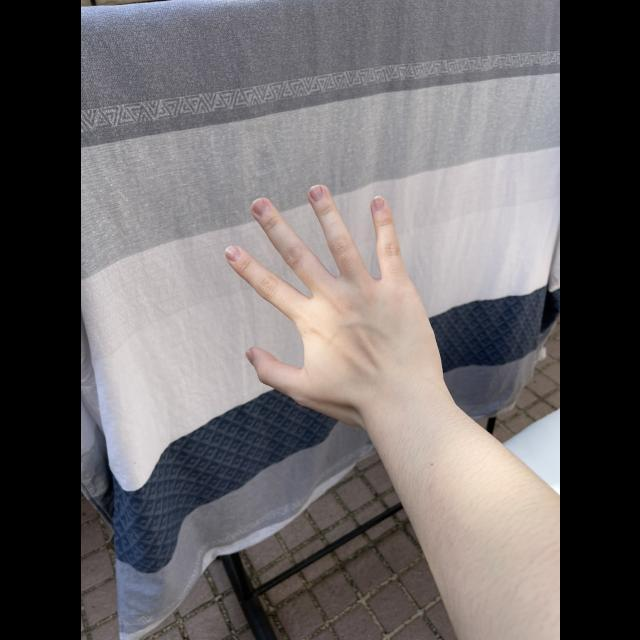bare_hand: (224, 182, 442, 416)
